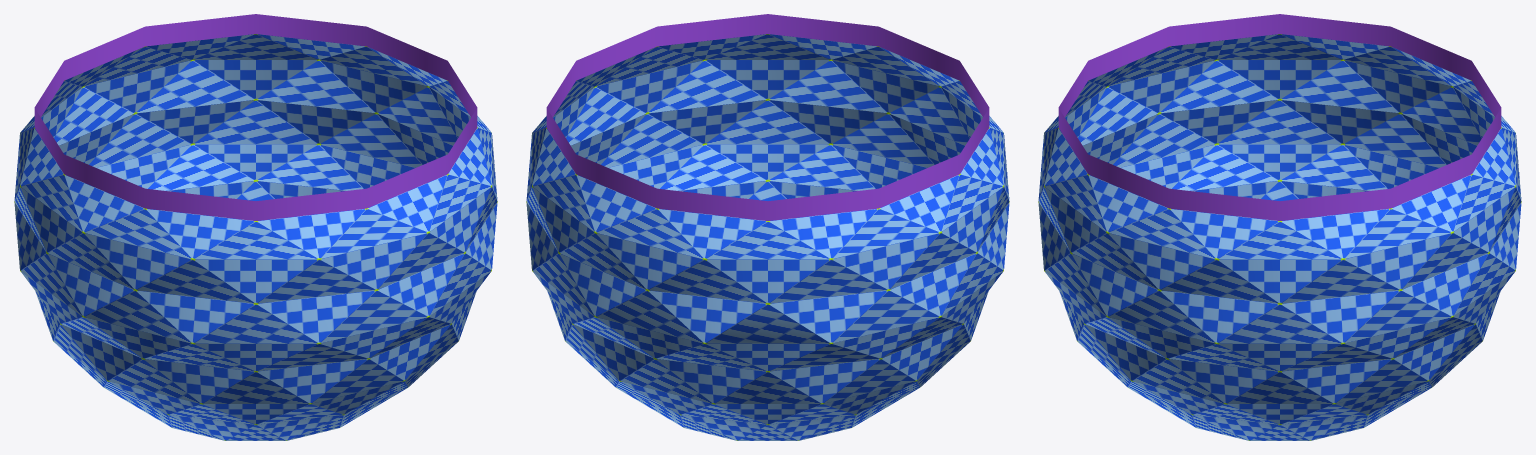
The model's file is LightCeiling10_2.FBX.
3 views of the same model, side by side, from view 1: azimuth 30°, elevation 25°; view 2: azimuth 150°, elevation 25°; view 3: azimuth 270°, elevation 25° (orthographic).
Visible parts, largest first — view 1: LightCeiling10_2; view 2: LightCeiling10_2; view 3: LightCeiling10_2.
Part boxes in pixels (x1,y1,x2,y2): LightCeiling10_2: (14, 14, 497, 440); LightCeiling10_2: (526, 14, 1009, 440); LightCeiling10_2: (1038, 14, 1521, 440).
Size of the model in its own units: 79.47 by 56.43 by 79.47.
